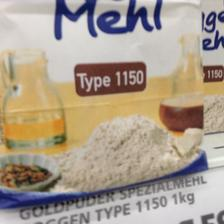Mehl: (0, 0, 206, 206)
